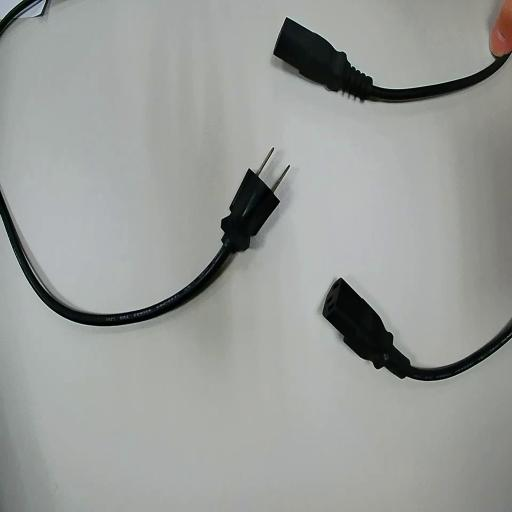wire: (0, 170, 278, 325), (274, 19, 511, 101), (323, 279, 511, 379)
